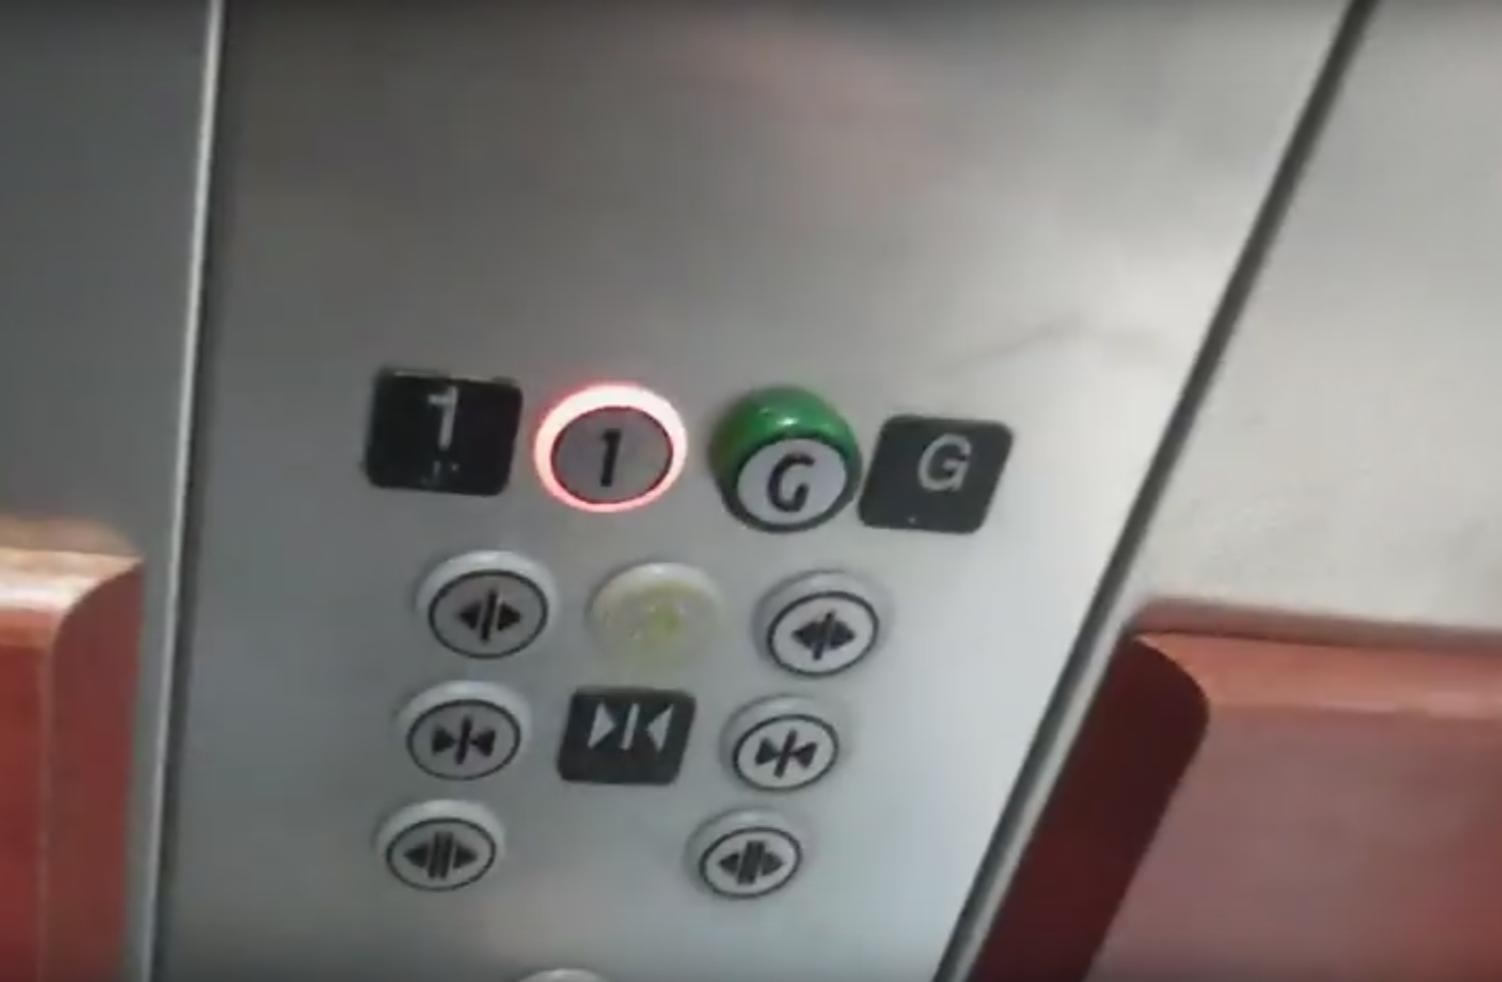1: (359, 361, 525, 496), (535, 380, 690, 516)
G: (710, 385, 862, 536), (858, 414, 1014, 535)
blur: (585, 558, 725, 670)
close: (393, 680, 530, 783), (554, 686, 696, 785), (719, 693, 844, 793)
open: (415, 548, 563, 666), (753, 570, 893, 681), (378, 799, 507, 895), (683, 806, 806, 900)
